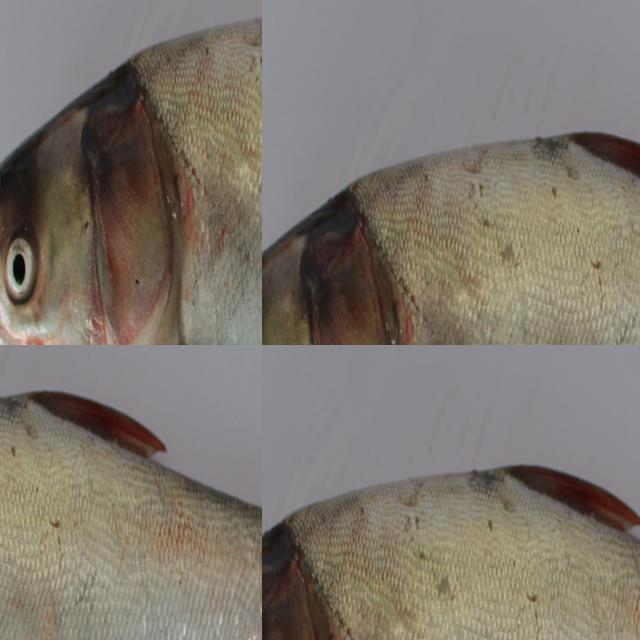fish: (262, 381, 640, 640), (0, 0, 119, 116)
